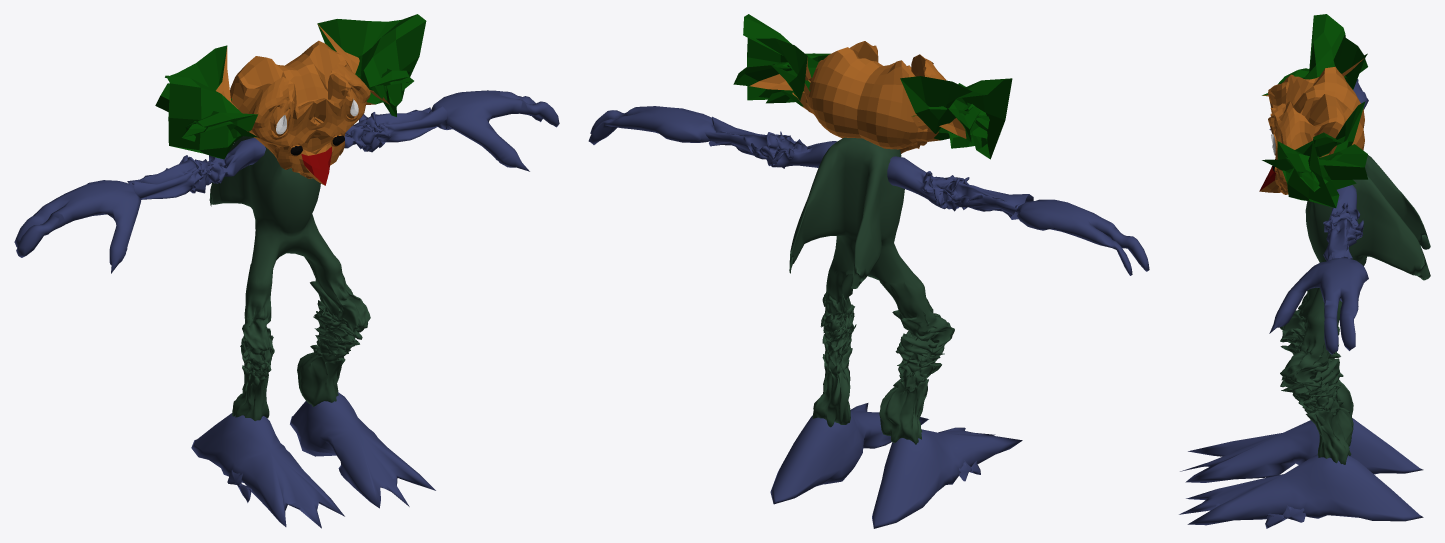
File: enemy1.obj
3 views of the same model, side by side, from view 1: azimuth 30°, elevation 25°; view 2: azimuth 150°, elevation 25°; view 3: azimuth 270°, elevation 25° (orthographic). The views are drawn at different scales.
Parts seen in each view (by area): view 1: Cube; view 2: Cube; view 3: Cube.
Part boxes in pixels (left/top/right/bottom): Cube: left=14, top=14, right=559, bottom=528; Cube: left=588, top=14, right=1149, bottom=528; Cube: left=1179, top=14, right=1430, bottom=528.
Bounding box in the file's own units: 2.95 × 2.18 × 1.19.
